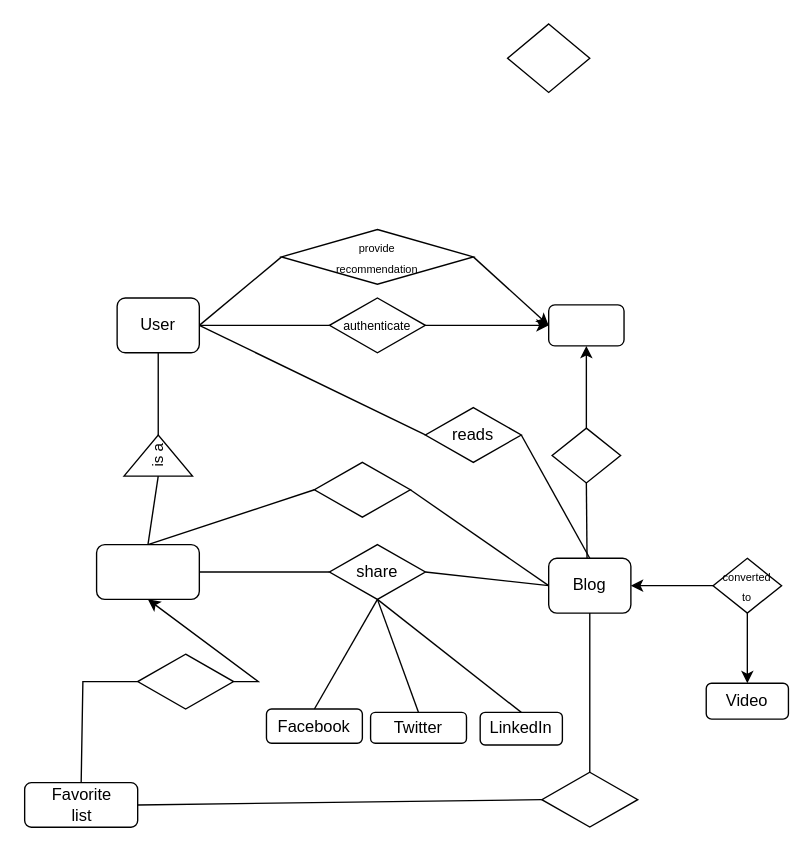
This 812x852 diagram has some shape labels left out. The shapes that lost their labels are listed below. From the top down, each one's box as (x1, y1, x2, y2) in pixels, then its label:
(506, 23, 590, 92): shared on
(547, 303, 624, 346): UI
(551, 427, 621, 483): shows
(313, 461, 410, 517): comment on
(95, 543, 199, 599): Registered User
(136, 653, 234, 709): create
(540, 771, 638, 827): contains
